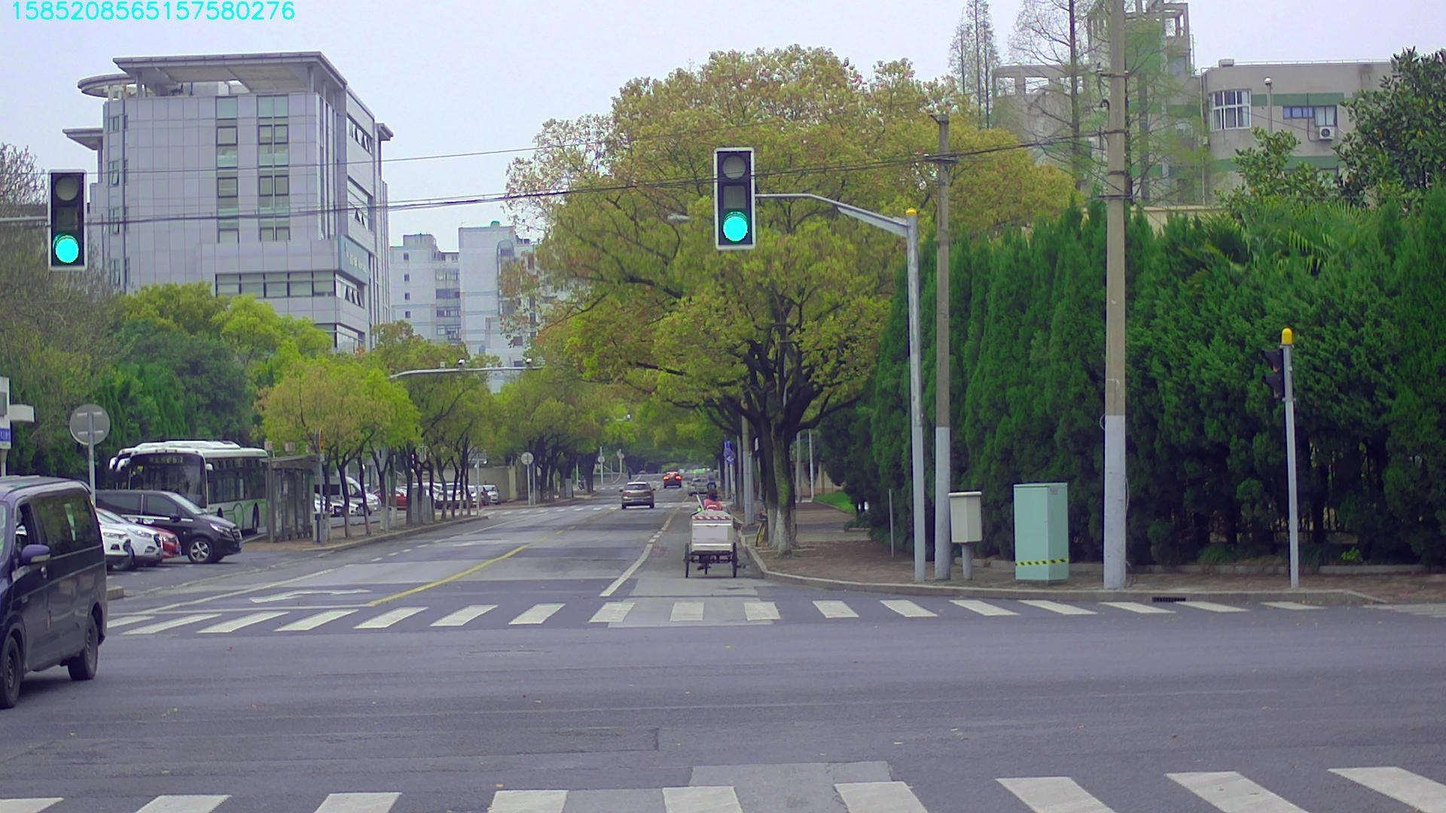green: (715, 148, 753, 245), (48, 170, 85, 268)
